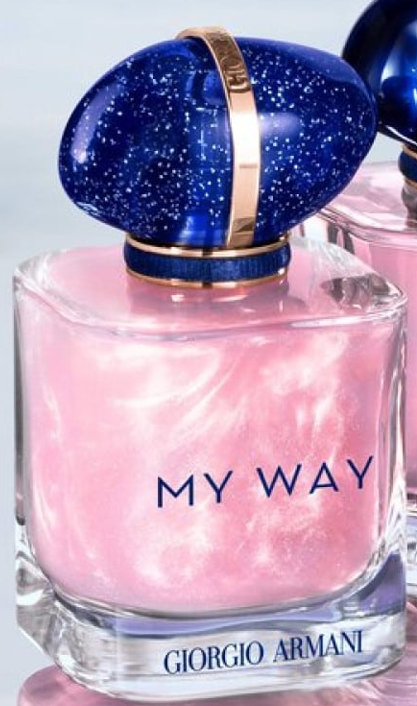armani_my_way_floral: (9, 13, 408, 695)
